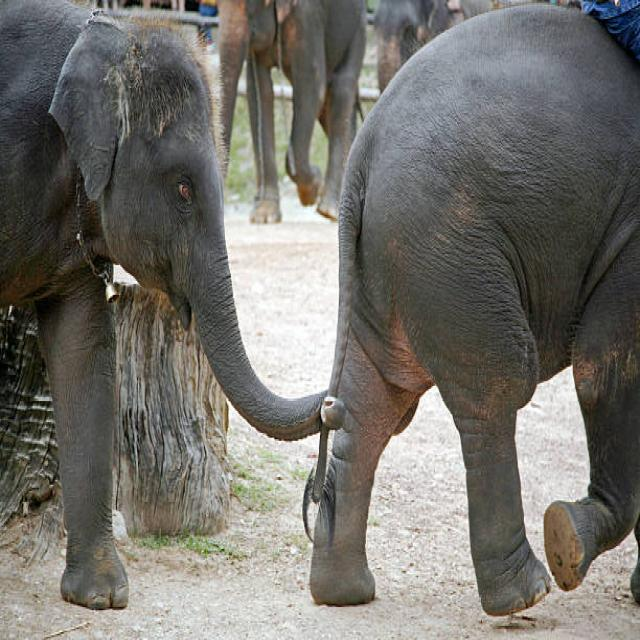Elephant: (313, 0, 640, 613), (0, 0, 296, 600)
